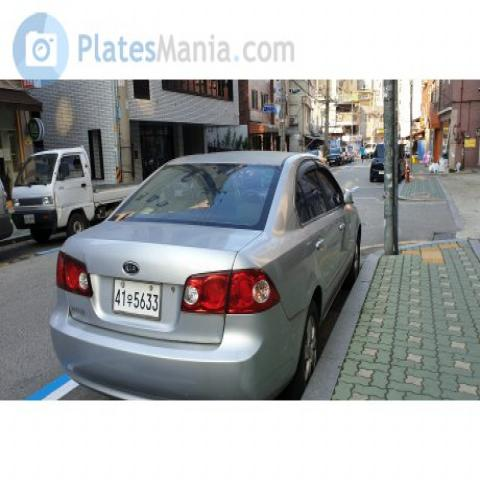LP: (94, 268, 178, 330)
